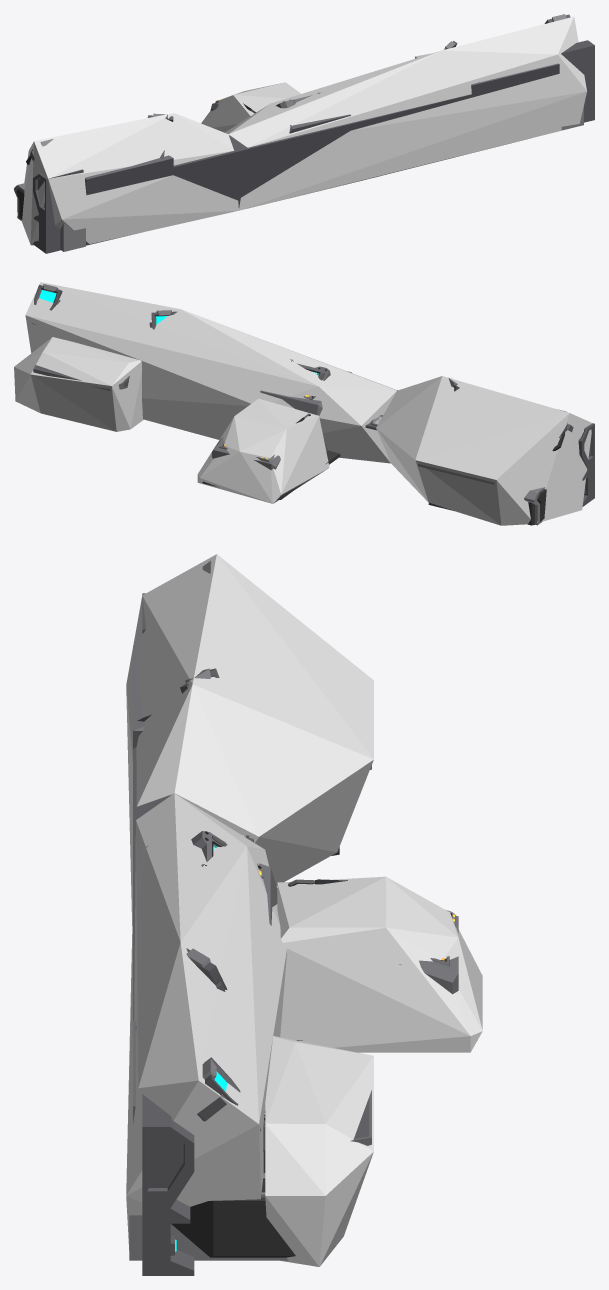
The model's file is SM_Prop_ControlPanel_02.fbx.
3 renders of one model, top to bottom at view 1: azimuth 30°, elevation 25°; view 2: azimuth 150°, elevation 25°; view 3: azimuth 270°, elevation 25°, orthographic. The views are drawn at different scales.
Visible parts, largest first — view 1: SM_Prop_ControlPanel_02_ConvexHulls, SM_Prop_ControlPanel_02_LOD0; view 2: SM_Prop_ControlPanel_02_ConvexHulls, SM_Prop_ControlPanel_02_LOD0; view 3: SM_Prop_ControlPanel_02_ConvexHulls, SM_Prop_ControlPanel_02_LOD0.
Part boxes in pixels (x1,y1,x2,y2): SM_Prop_ControlPanel_02_ConvexHulls: [21, 16, 586, 245]; SM_Prop_ControlPanel_02_LOD0: [14, 14, 594, 253]; SM_Prop_ControlPanel_02_ConvexHulls: [14, 282, 592, 525]; SM_Prop_ControlPanel_02_LOD0: [32, 284, 594, 525]; SM_Prop_ControlPanel_02_ConvexHulls: [126, 554, 482, 1266]; SM_Prop_ControlPanel_02_LOD0: [129, 561, 458, 1275].
Bounding box in the file's own units: 264 × 937 × 161.
Materials: 1 (1 with a texture image).
